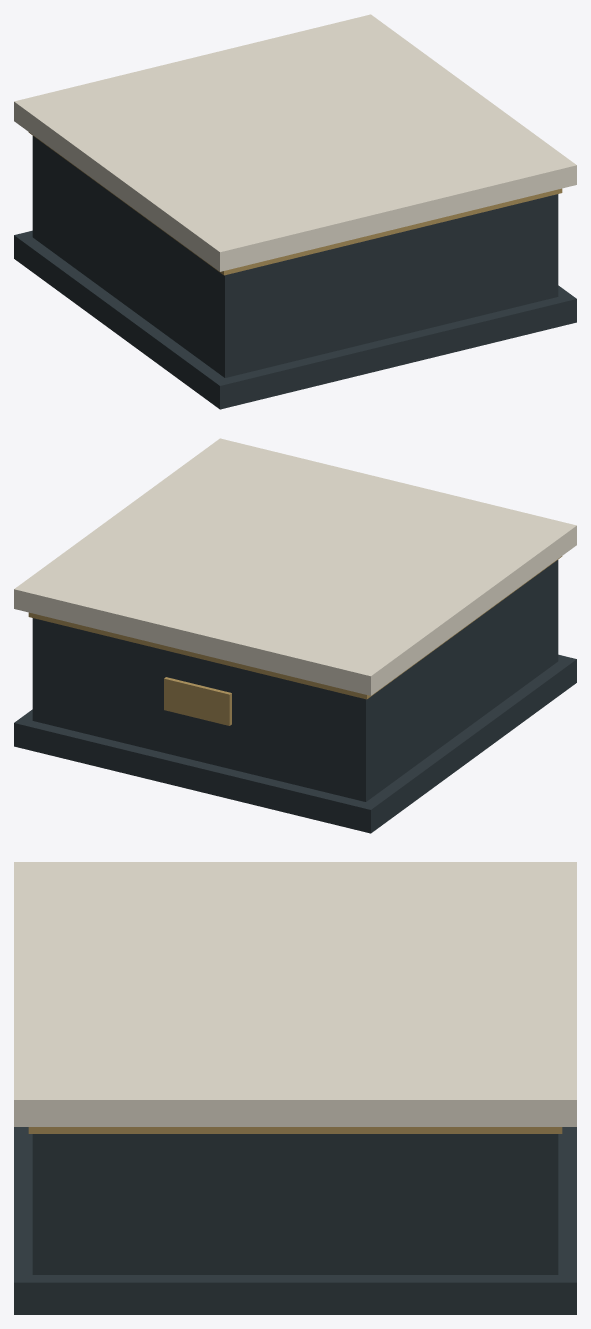
File: VIC_A06_PLINTH_SQUARE_Roblox.fbx
3 renders of one model, top to bottom at view 1: azimuth 30°, elevation 25°; view 2: azimuth 150°, elevation 25°; view 3: azimuth 270°, elevation 25°, orthographic. The views are drawn at different scales.
Visible parts, largest first — view 1: VIC_A06_PLINTH_SQUARE__Ivory, VIC_A06_PLINTH_SQUARE__Charcoal, VIC_A06_PLINTH_SQUARE__Brass; view 2: VIC_A06_PLINTH_SQUARE__Ivory, VIC_A06_PLINTH_SQUARE__Charcoal, VIC_A06_PLINTH_SQUARE__Brass; view 3: VIC_A06_PLINTH_SQUARE__Ivory, VIC_A06_PLINTH_SQUARE__Charcoal, VIC_A06_PLINTH_SQUARE__Brass.
Part boxes in pixels (bbox=[...]): VIC_A06_PLINTH_SQUARE__Ivory: bbox=[14, 14, 576, 271]; VIC_A06_PLINTH_SQUARE__Charcoal: bbox=[14, 136, 576, 409]; VIC_A06_PLINTH_SQUARE__Brass: bbox=[28, 132, 562, 275]; VIC_A06_PLINTH_SQUARE__Ivory: bbox=[14, 438, 576, 695]; VIC_A06_PLINTH_SQUARE__Charcoal: bbox=[14, 560, 576, 833]; VIC_A06_PLINTH_SQUARE__Brass: bbox=[28, 556, 562, 725]; VIC_A06_PLINTH_SQUARE__Ivory: bbox=[14, 862, 576, 1126]; VIC_A06_PLINTH_SQUARE__Charcoal: bbox=[14, 1127, 576, 1314]; VIC_A06_PLINTH_SQUARE__Brass: bbox=[28, 1127, 562, 1133].
Size of the model in its own units: 3.8 by 1.6 by 3.8.
